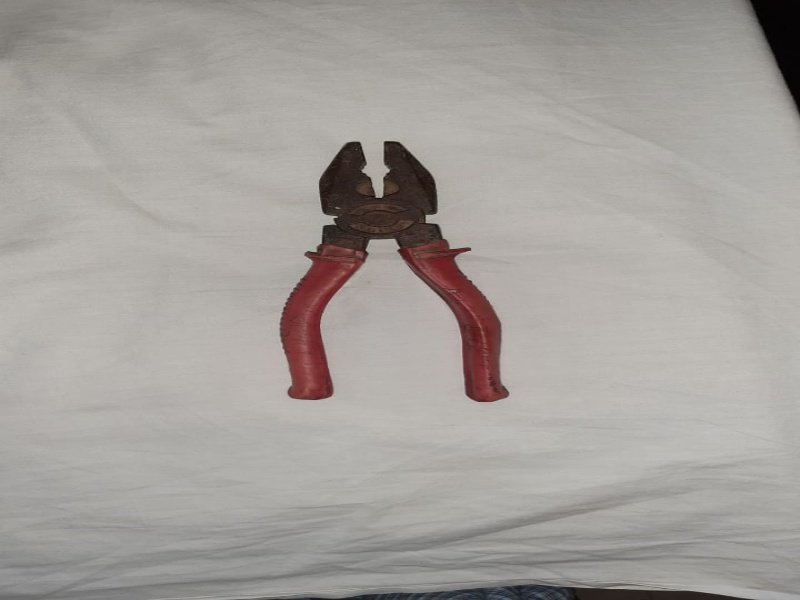cuttingplier: (279, 139, 511, 404)
